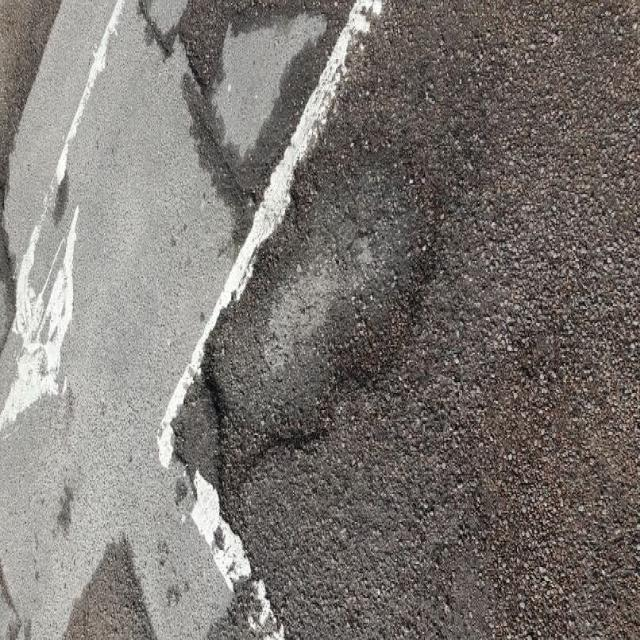pothole: (197, 120, 448, 516)
